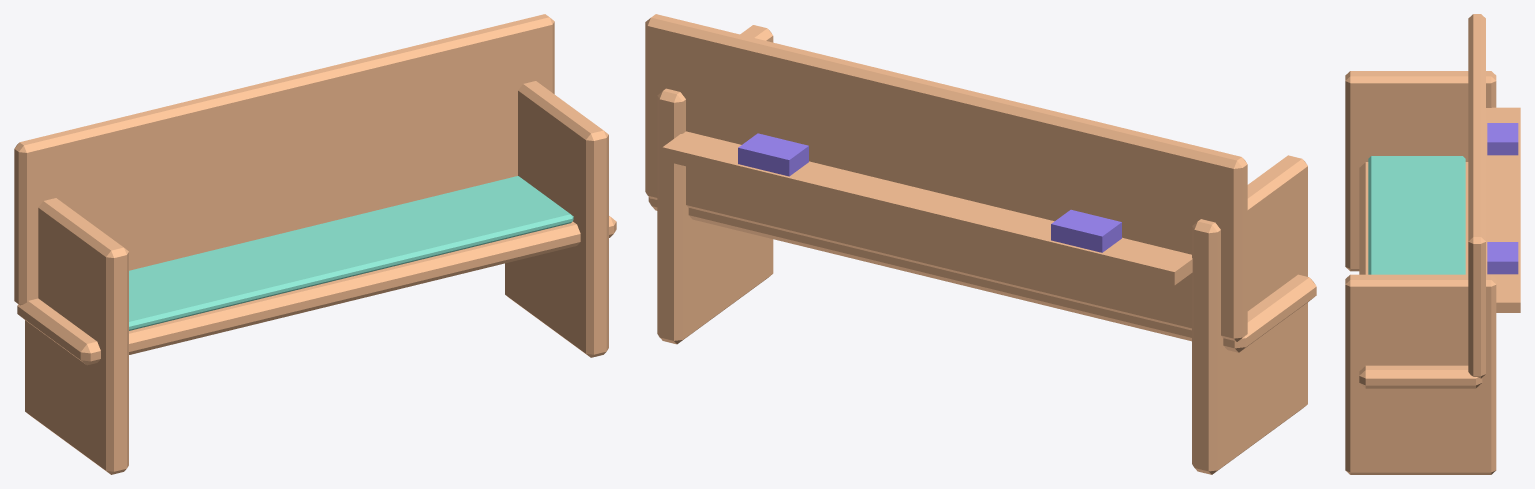
3 renders of one model, left to right at view 1: azimuth 30°, elevation 25°; view 2: azimuth 150°, elevation 25°; view 3: azimuth 270°, elevation 25°, orthographic. The views are drawn at different scales.
Visible parts, largest first — view 1: Back, Seat cushion, End panel, End panel.001, Seat; view 2: Back, End panel, Book rest, End panel.001, Seat, Hymnal cover.001, Hymnal cover; view 3: End panel.001, End panel, Seat cushion, Back, Book rest, Seat, Hymnal cover, Hymnal cover.001.
Boxes of the visible parts, x1,y1,x2,y2 form: Back: (14, 14, 554, 305); Seat cushion: (129, 176, 573, 330); End panel: (25, 198, 128, 474); End panel.001: (505, 81, 608, 357); Seat: (17, 216, 616, 365); Back: (645, 14, 1247, 341); End panel: (1192, 155, 1307, 474); Book rest: (662, 131, 1192, 285); End panel.001: (657, 25, 773, 344); Seat: (648, 197, 1316, 352); Hymnal cover.001: (738, 133, 808, 176); Hymnal cover: (1051, 209, 1121, 252); End panel.001: (1345, 274, 1496, 474); End panel: (1345, 71, 1496, 271); Seat cushion: (1368, 156, 1465, 274); Back: (1468, 14, 1485, 378); Book rest: (1486, 107, 1520, 312); Seat: (1359, 162, 1482, 388); Hymnal cover: (1487, 123, 1518, 155); Hymnal cover.001: (1487, 242, 1518, 274).
Size of the model in its own units: 210 by 106 by 68.5.
